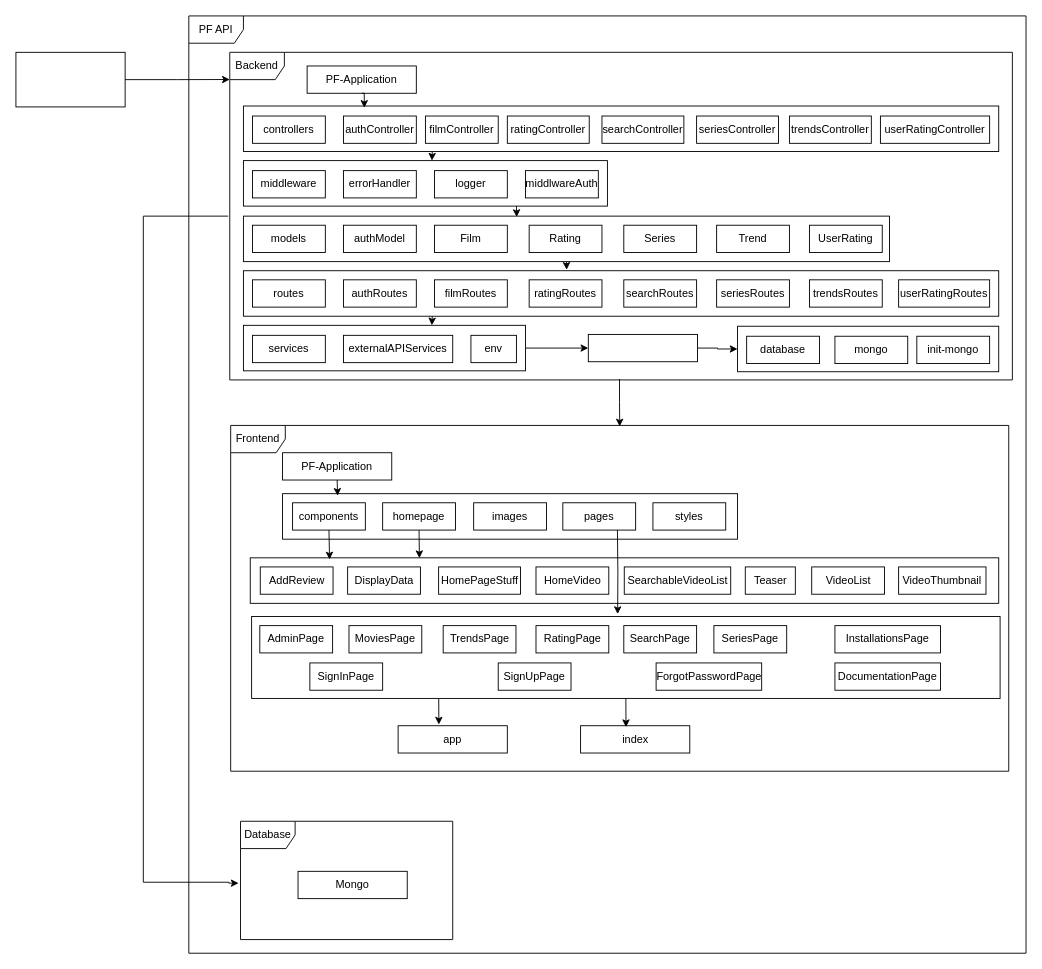
The diagram is 1042 pixels wide and 969 high, and some of its shapes have lost their labels. The centre of each missing label's shape, as x and y in pixels:
API Client: point 70,79
server: point 642,348
